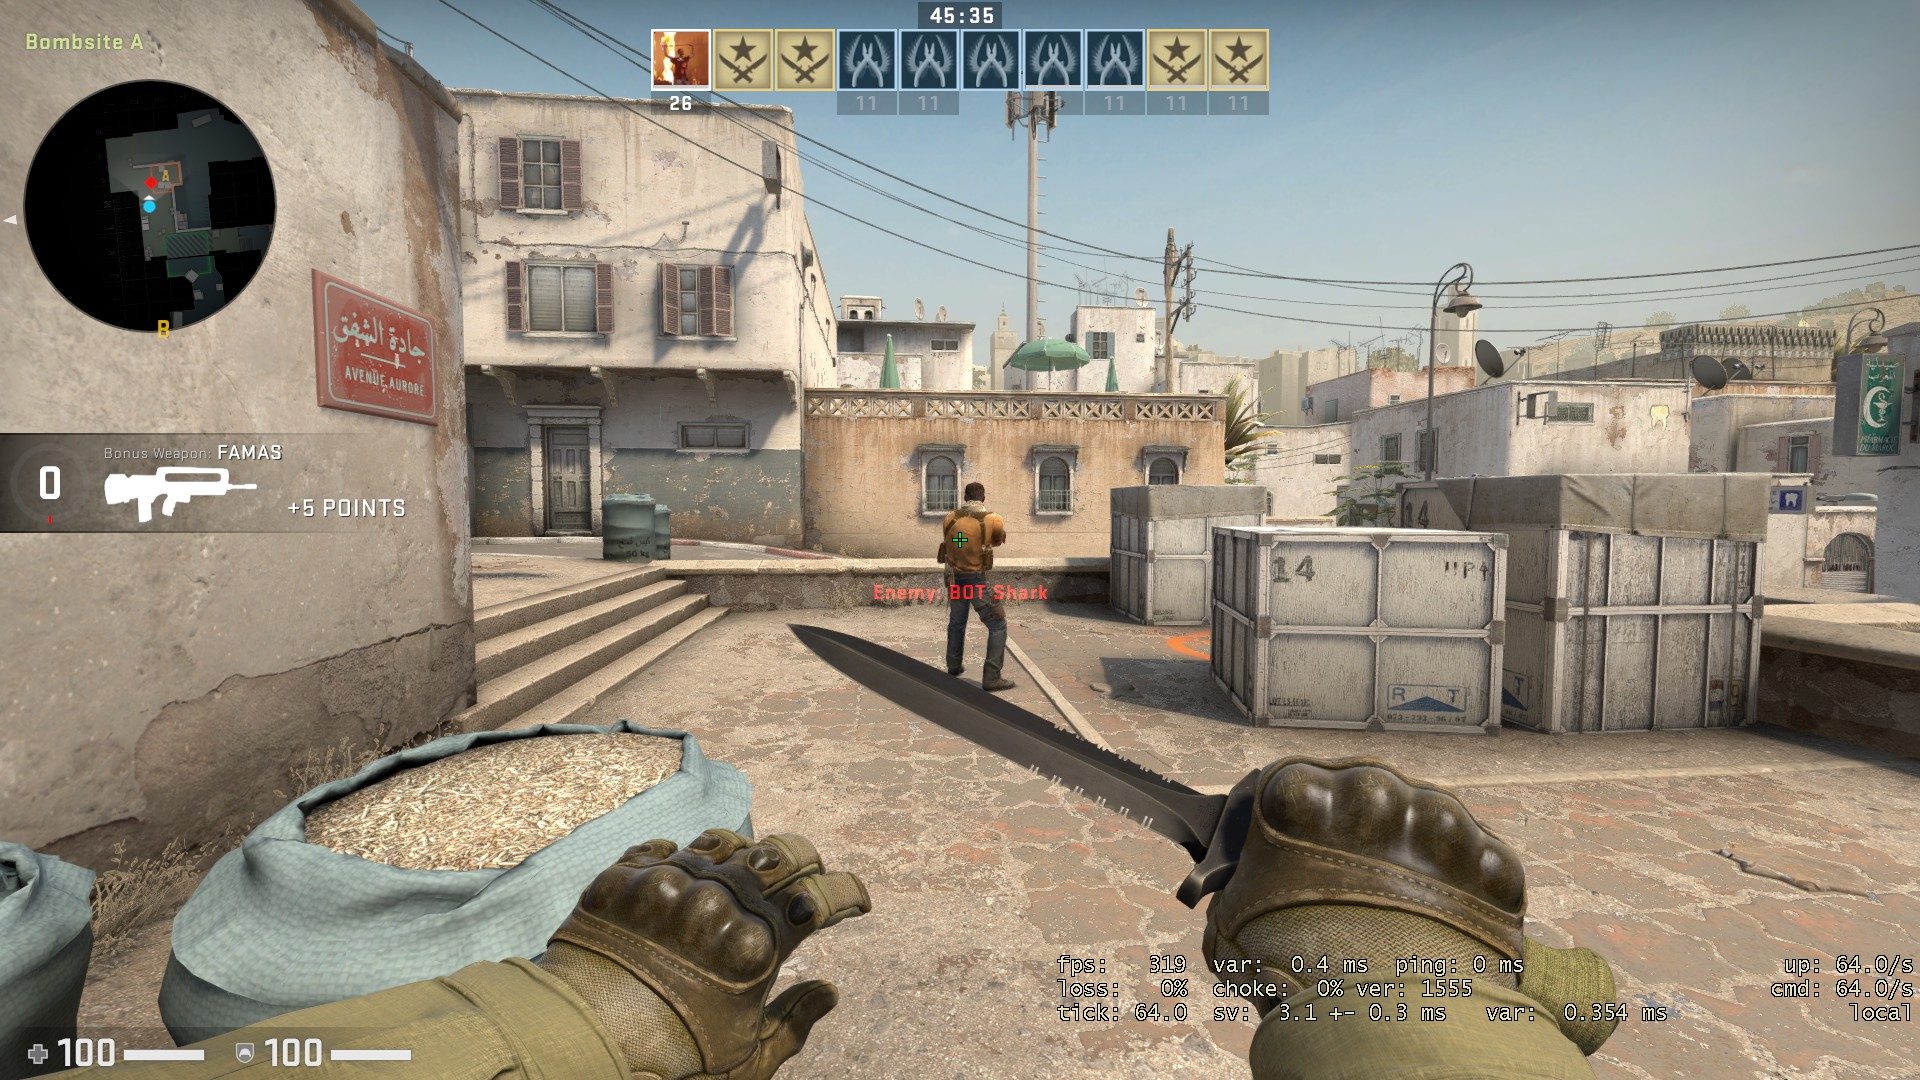player: (931, 477, 1021, 694)
